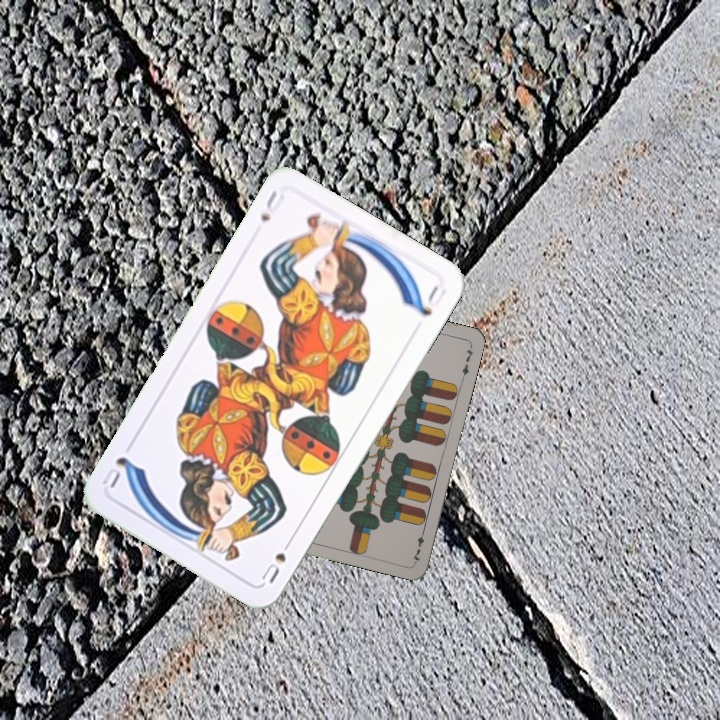E7: (408, 525, 428, 565)
SU: (257, 533, 296, 586), (256, 186, 288, 225)
